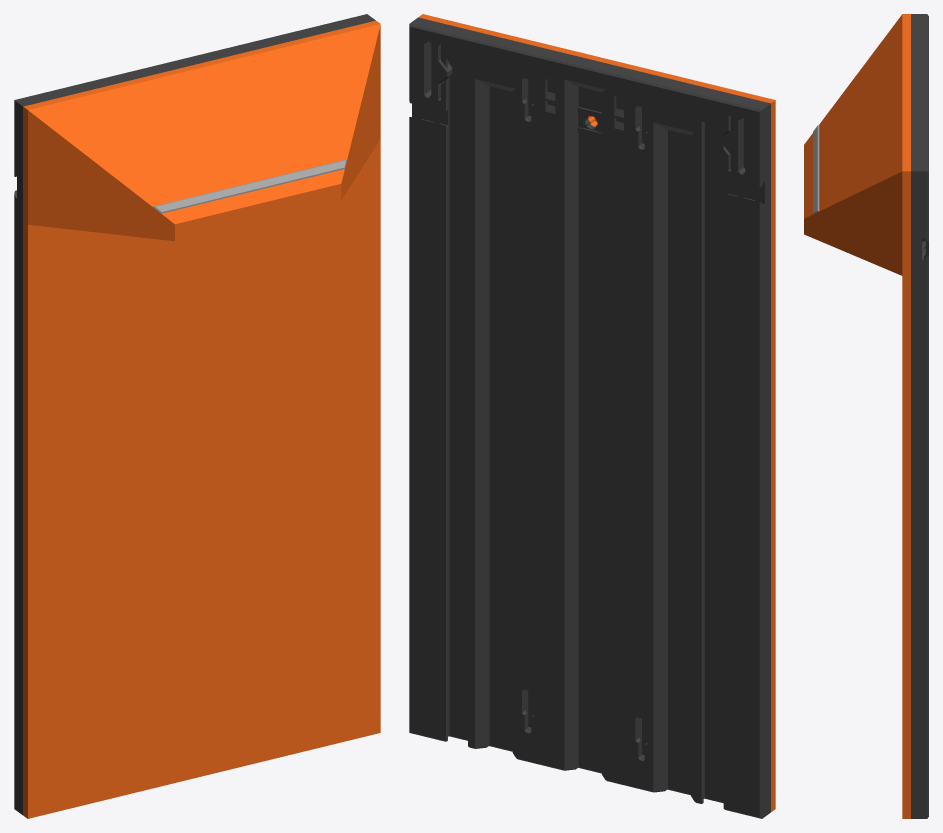
File: Faceplate_ClassicDecor_1W-3H.lib.glb
The picture shows the model from 3 angles, left to right: view 1: azimuth 30°, elevation 25°; view 2: azimuth 150°, elevation 25°; view 3: azimuth 270°, elevation 25°; orthographic projection. The views are drawn at different scales.
Parts seen in each view (by area): view 1: Faceplate_ClassicDecor_1W-3H; view 2: Faceplate_ClassicDecor_1W-3H; view 3: Faceplate_ClassicDecor_1W-3H.
Boxes of the visible parts, x1,y1,x2,y2 form: Faceplate_ClassicDecor_1W-3H: (14,14,380,818); Faceplate_ClassicDecor_1W-3H: (409,14,775,818); Faceplate_ClassicDecor_1W-3H: (804,14,928,818).
Bounding box in the file's own units: 87 × 167 × 29.19.
